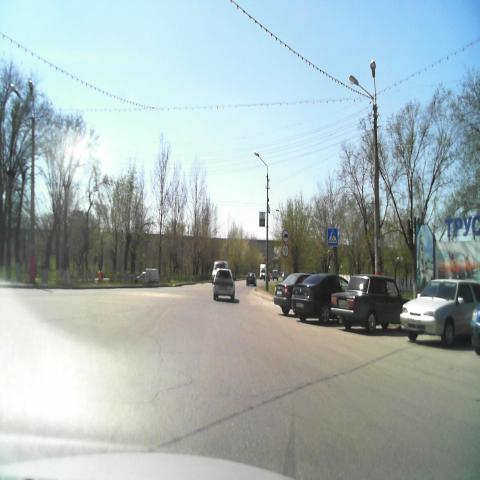3_13: (282, 244, 290, 257)
